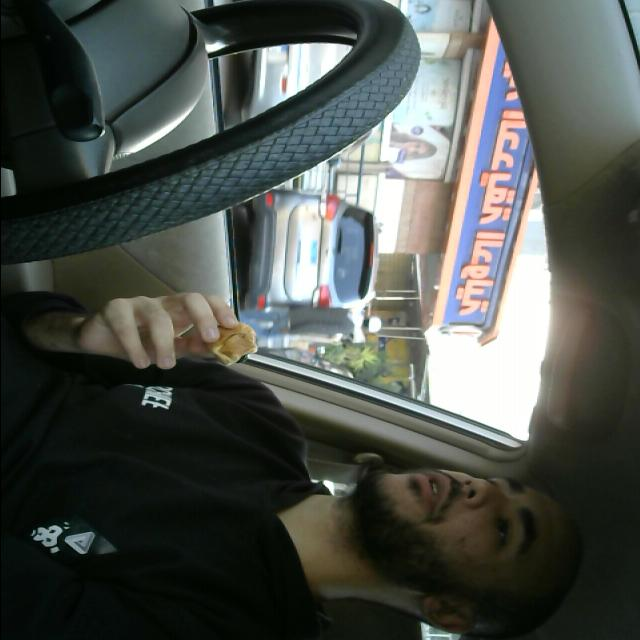eating: (204, 318, 262, 364)
